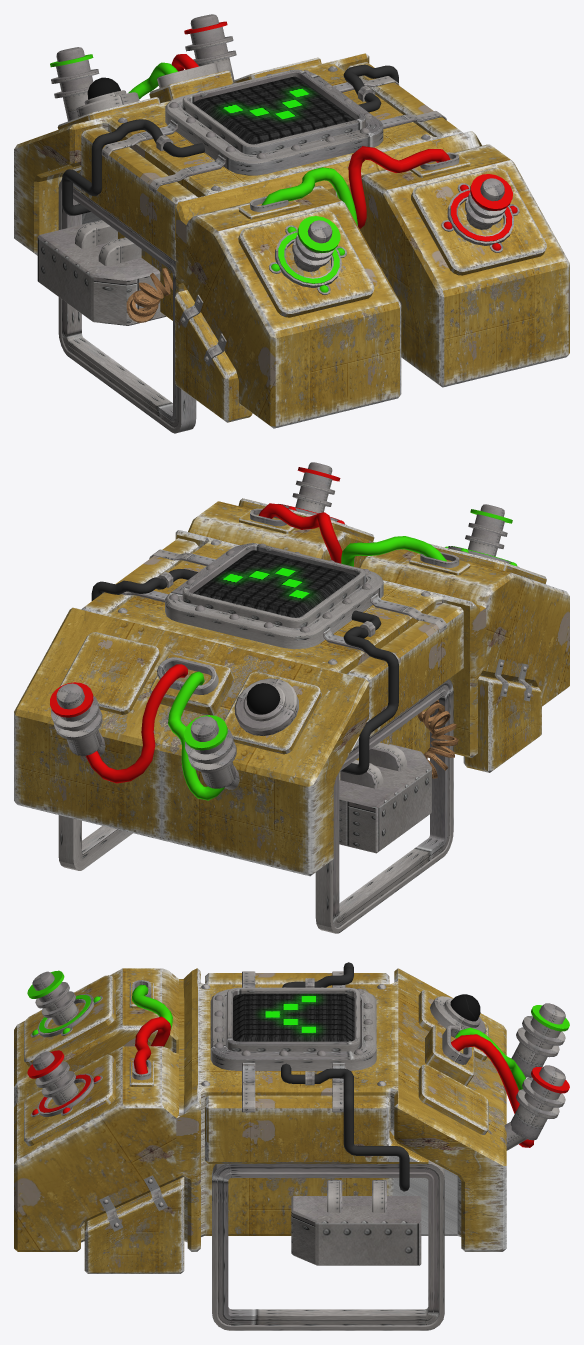
Rendered from static.glb.
The picture shows the model from 3 angles, top to bottom: view 1: azimuth 30°, elevation 25°; view 2: azimuth 150°, elevation 25°; view 3: azimuth 270°, elevation 25°; orthographic projection. The views are drawn at different scales.
Visible parts, largest first — view 1: Boole_1, Cube_12, Boole, Sweep_13, Cube_10, Plane_1, Sweep_7, Cube_1, Sweep_1_3, Sweep_11, Cube_3, Sweep (+18 smaller); view 2: Boole_1, Sweep_13, Boole, Cube_14, Cube_10, Plane_1, Sweep_7, Cube_1, Sweep_1_3, Sweep_11, Sweep_1, Sweep_2 (+22 smaller); view 3: Boole_1, Boole, Sweep_13, Cube_10, Cube_1, Cube_12, Plane_1, Sweep_7, Cube_14, Sweep_11, Sweep_1_3, Cube_3 (+16 smaller).
Part boxes in pixels (left/top/right/bottom): Boole_1: left=14, top=53, right=569, bottom=428; Cube_12: left=238, top=167, right=546, bottom=317; Boole: left=62, top=62, right=462, bottom=260; Sweep_13: left=58, top=180, right=196, bottom=433; Cube_10: left=37, top=222, right=166, bottom=325; Plane_1: left=192, top=76, right=355, bottom=144; Sweep_7: left=165, top=72, right=383, bottom=175; Cube_1: left=175, top=290, right=252, bottom=422; Sweep_1_3: left=182, top=69, right=365, bottom=154; Sweep_11: left=62, top=64, right=398, bottom=215; Cube_3: left=101, top=76, right=446, bottom=194; Sweep: left=348, top=146, right=450, bottom=228; Boole_1: left=14, top=501, right=569, bottom=876; Sweep_13: left=58, top=679, right=453, bottom=933; Boole: left=81, top=538, right=463, bottom=750; Cube_14: left=59, top=632, right=321, bottom=754; Cube_10: left=339, top=744, right=431, bottom=853; Plane_1: left=193, top=550, right=356, bottom=617; Sweep_7: left=165, top=544, right=383, bottom=649; Cube_1: left=463, top=675, right=541, bottom=772; Sweep_1_3: left=182, top=543, right=365, bottom=628; Sweep_11: left=91, top=569, right=398, bottom=774; Sweep_1: left=168, top=536, right=446, bottom=800; Sweep_2: left=86, top=664, right=187, bottom=783; Boole_1: left=14, top=968, right=506, bottom=1251; Boole: left=205, top=973, right=428, bottom=1163; Sweep_13: left=212, top=1160, right=444, bottom=1330; Cube_10: left=291, top=1196, right=421, bottom=1265; Cube_1: left=84, top=1177, right=184, bottom=1273; Cube_12: left=24, top=975, right=115, bottom=1146; Plane_1: left=233, top=993, right=354, bottom=1041; Sweep_7: left=210, top=989, right=376, bottom=1070; Cube_14: left=418, top=990, right=488, bottom=1134; Sweep_11: left=281, top=962, right=409, bottom=1191; Sweep_1_3: left=227, top=987, right=360, bottom=1051; Cube_3: left=242, top=971, right=345, bottom=1112.
Size of the model in its own units: 2.03 by 1.57 by 3.03.
Materials: 8 (8 with a texture image).
